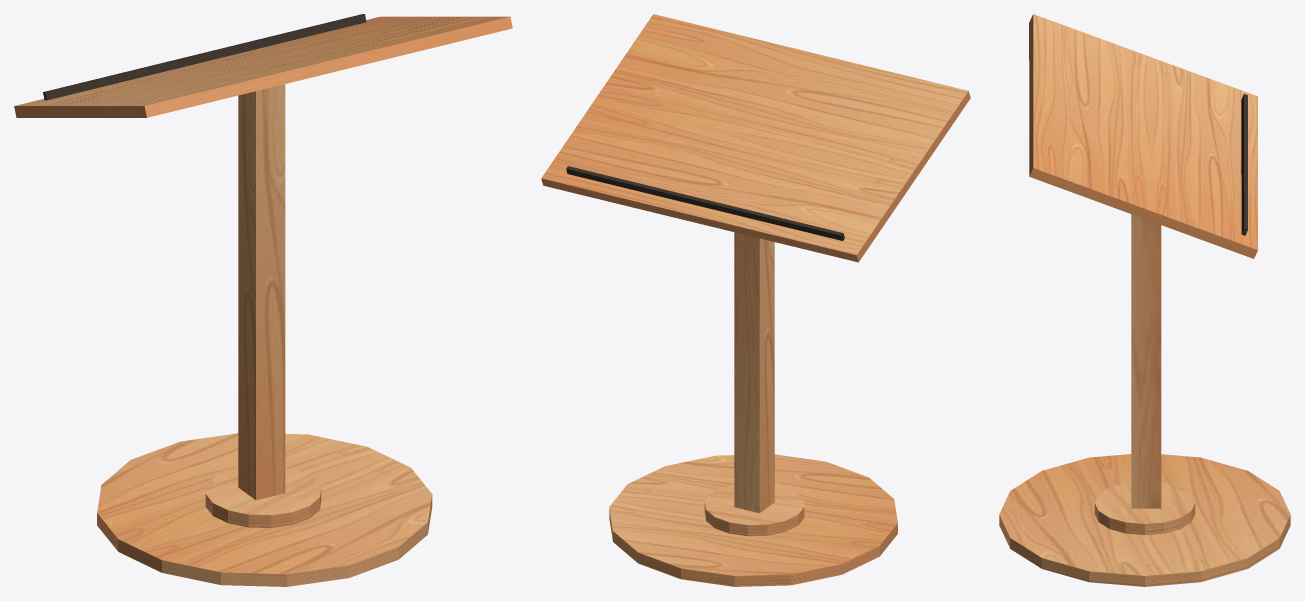
The model's file is Bookstand2.fbx.
3 renders of one model, left to right at view 1: azimuth 30°, elevation 25°; view 2: azimuth 150°, elevation 25°; view 3: azimuth 270°, elevation 25°, orthographic. The views are drawn at different scales.
Visible parts, largest first — view 1: Bookstand2; view 2: Bookstand2; view 3: Bookstand2.
Boxes of the visible parts, x1=… form: Bookstand2: x1=14, y1=14, x2=512, y2=586; Bookstand2: x1=541, y1=14, x2=970, y2=586; Bookstand2: x1=999, y1=14, x2=1290, y2=586.
Bounding box in the file's own units: 827 × 661 × 1085.
